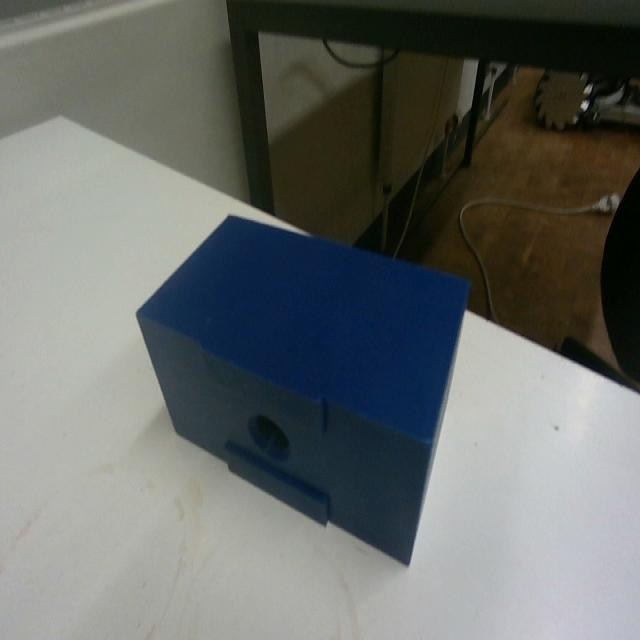Blue Cuboid: (133, 208, 472, 567)
